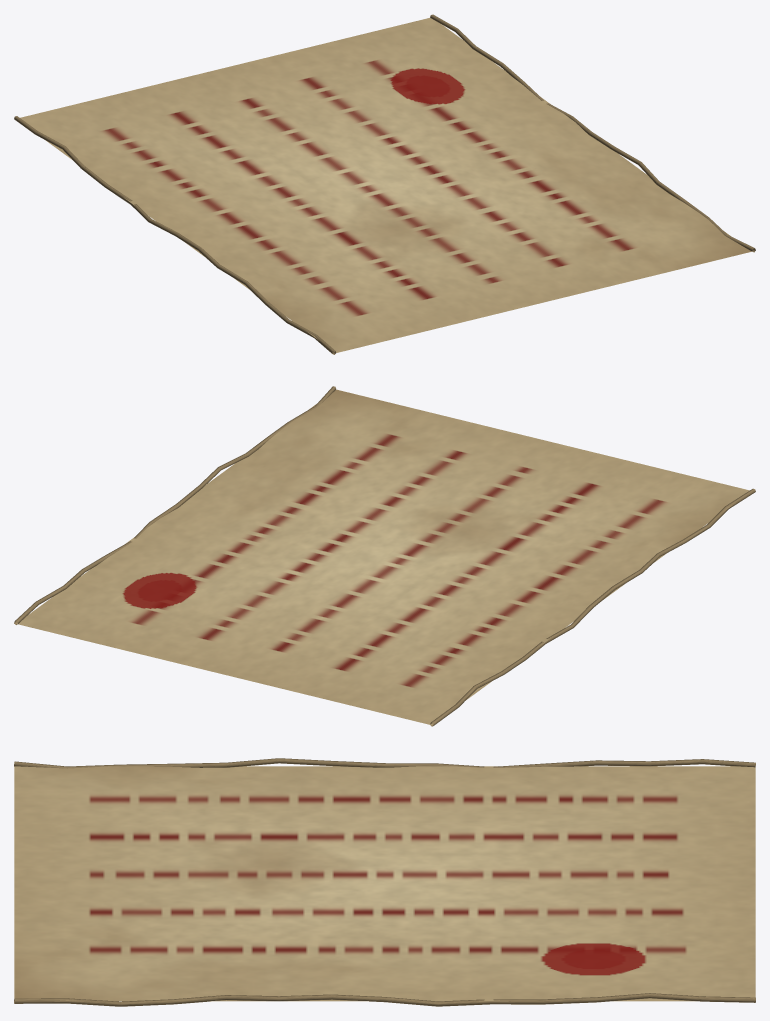
Rendered from blood_contract.glb.
The picture shows the model from 3 angles, top to bottom: view 1: azimuth 30°, elevation 25°; view 2: azimuth 150°, elevation 25°; view 3: azimuth 270°, elevation 25°; orthographic projection. The views are drawn at different scales.
Parts seen in each view (by area): view 1: Paper, Art_UnbleachedPaper; view 2: Paper, Art_UnbleachedPaper; view 3: Paper, Art_UnbleachedPaper.
Part boxes in pixels (bbox=[...]): Paper: bbox=[20, 18, 751, 352]; Art_UnbleachedPaper: bbox=[14, 14, 755, 354]; Paper: bbox=[16, 389, 749, 725]; Art_UnbleachedPaper: bbox=[14, 386, 755, 726]; Paper: bbox=[14, 766, 755, 1001]; Art_UnbleachedPaper: bbox=[14, 758, 755, 1006].
Bounding box in the file's own units: 0.3067 × 0.00647 × 0.4003.
2 materials, 2 textured.
